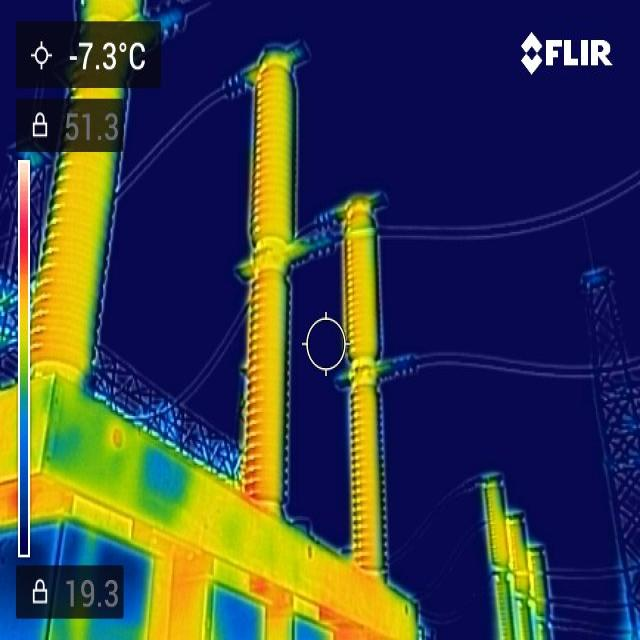Zona_Atenco: (245, 324, 261, 500), (321, 607, 377, 639)
